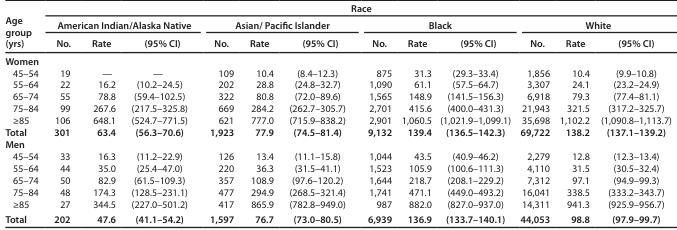table: (4, 3, 670, 224)
table column: (435, 3, 514, 224), (122, 3, 199, 224), (594, 3, 670, 224), (280, 3, 355, 224), (80, 3, 122, 224), (199, 3, 241, 224), (4, 3, 45, 224), (553, 3, 594, 224), (355, 3, 395, 224), (395, 3, 435, 224), (241, 3, 280, 224), (514, 3, 553, 224), (45, 3, 80, 224)
table column header: (4, 3, 670, 52)
table projected row header: (4, 52, 670, 66), (4, 138, 670, 150)
table row: (4, 34, 670, 52), (4, 17, 670, 34), (4, 3, 670, 17), (4, 52, 670, 66), (4, 198, 670, 211), (4, 211, 670, 224), (4, 66, 670, 78), (4, 78, 670, 90), (4, 90, 670, 102), (4, 102, 670, 114), (4, 114, 670, 126), (4, 126, 670, 138), (4, 138, 670, 150), (4, 150, 670, 162), (4, 162, 670, 174), (4, 174, 670, 186), (4, 186, 670, 198)
table spanning cell: (45, 3, 670, 17), (355, 17, 514, 34), (199, 17, 355, 34), (514, 17, 670, 34), (45, 17, 199, 34), (4, 3, 45, 52)
